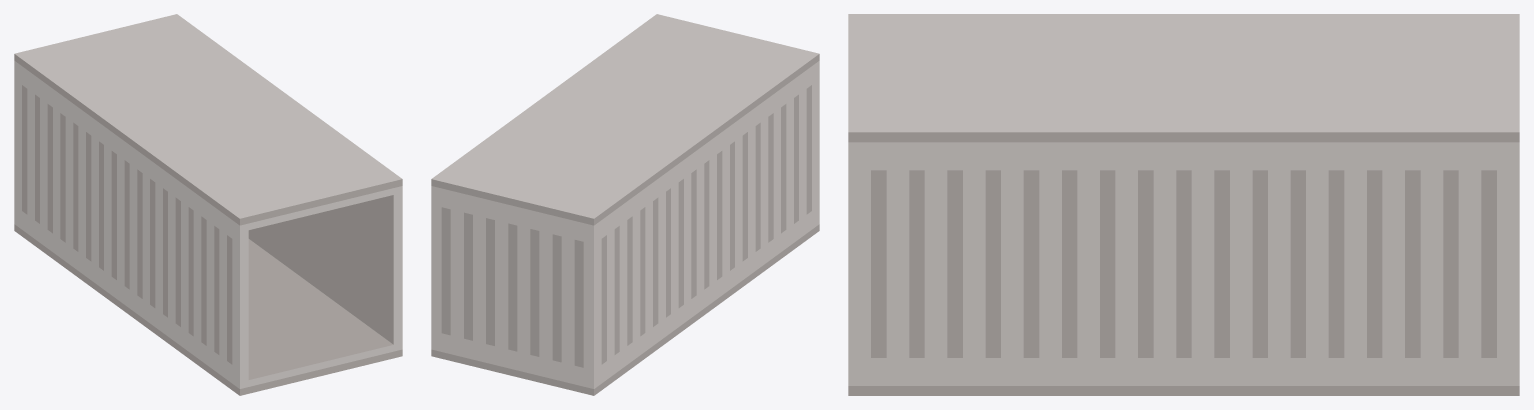
File: cargo-shipping-base_white.glb
The picture shows the model from 3 angles, left to right: view 1: azimuth 30°, elevation 25°; view 2: azimuth 150°, elevation 25°; view 3: azimuth 270°, elevation 25°; orthographic projection. The views are drawn at different scales.
Visible parts, largest first — view 1: cargo-shipping-base_white; view 2: cargo-shipping-base_white; view 3: cargo-shipping-base_white.
Part boxes in pixels (x1,y1,x2,y2): cargo-shipping-base_white: (14,14,402,395); cargo-shipping-base_white: (431,14,819,395); cargo-shipping-base_white: (848,14,1519,395).
Bounding box in the file's own units: 2.5 × 2.6 × 6.
1 material, 1 textured.
